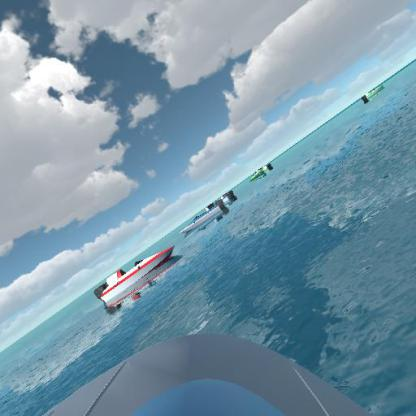usv0: (358, 80, 389, 104), (246, 158, 276, 182)
usv1: (176, 200, 232, 232), (204, 189, 242, 209)
usv3: (94, 242, 182, 311)
